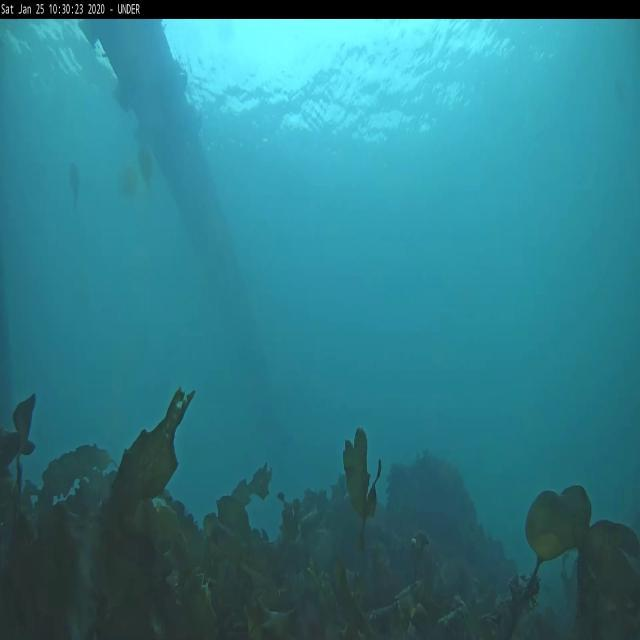fish: (137, 139, 154, 196), (68, 162, 84, 212)
